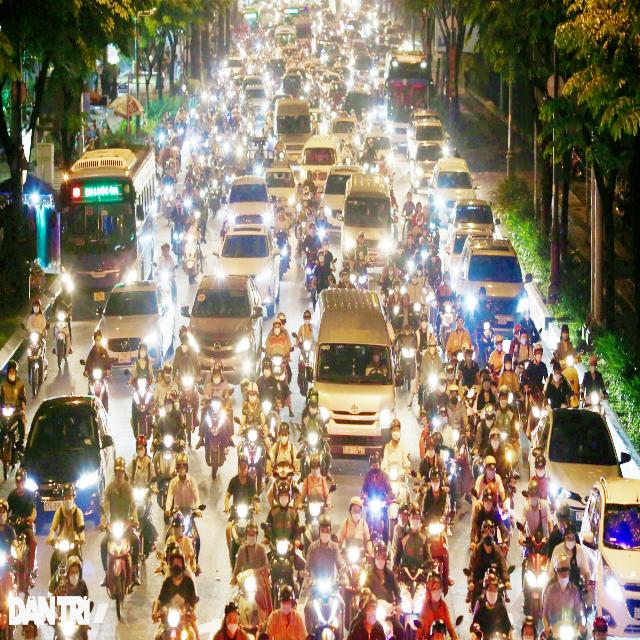Car: (306, 287, 398, 457), (526, 403, 638, 528), (19, 394, 116, 527), (63, 155, 155, 279), (579, 476, 640, 640), (180, 274, 263, 384), (93, 279, 176, 375), (456, 236, 531, 330), (212, 223, 282, 316), (339, 174, 398, 267), (220, 175, 275, 249), (443, 226, 500, 290), (428, 157, 481, 220), (320, 164, 363, 236), (273, 96, 314, 164), (300, 134, 342, 194), (448, 198, 497, 242), (409, 140, 446, 194), (406, 115, 449, 161), (264, 164, 298, 219), (359, 134, 394, 180), (328, 111, 360, 149), (343, 88, 374, 125), (274, 73, 308, 100), (240, 85, 269, 116), (273, 25, 297, 56), (328, 80, 348, 111), (319, 72, 342, 96), (222, 57, 245, 80), (332, 65, 353, 90), (309, 108, 328, 135), (243, 7, 260, 32)
